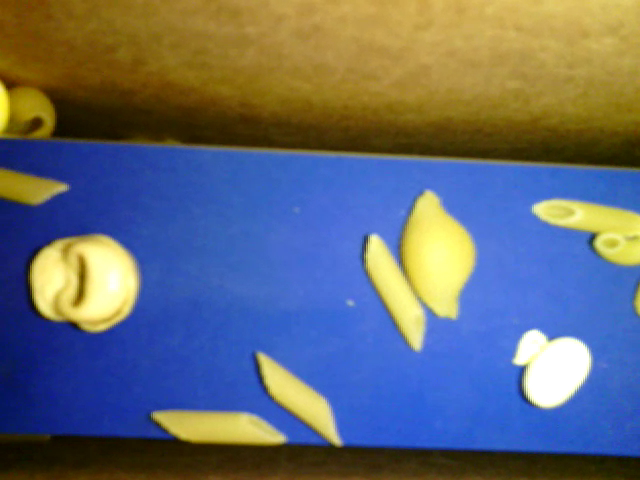elbow: (593, 232, 639, 267)
penne: (255, 351, 342, 447), (362, 234, 426, 353), (146, 410, 287, 445), (531, 195, 639, 238), (2, 166, 68, 213)
shell: (397, 189, 479, 319), (2, 85, 55, 143)
tortellini: (24, 234, 142, 337)
